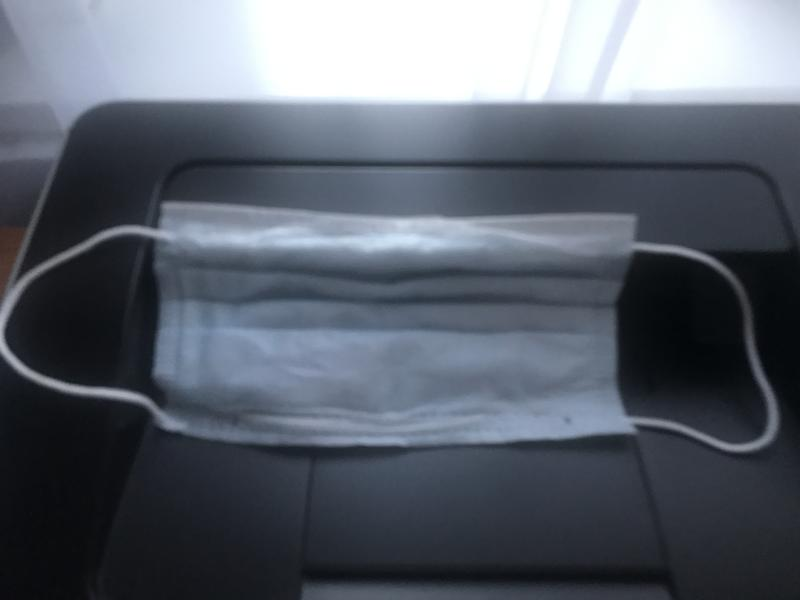medical_mask: (1, 201, 780, 451)
